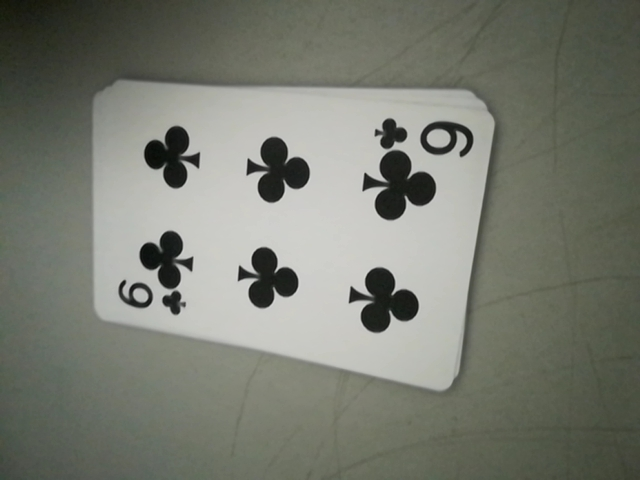mh 6: (372, 114, 478, 159), (113, 283, 187, 322)
